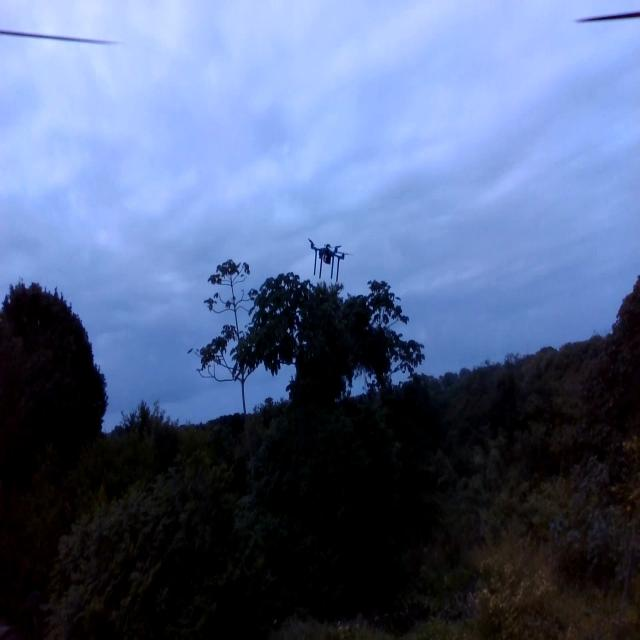-uav-: (301, 231, 357, 289)
